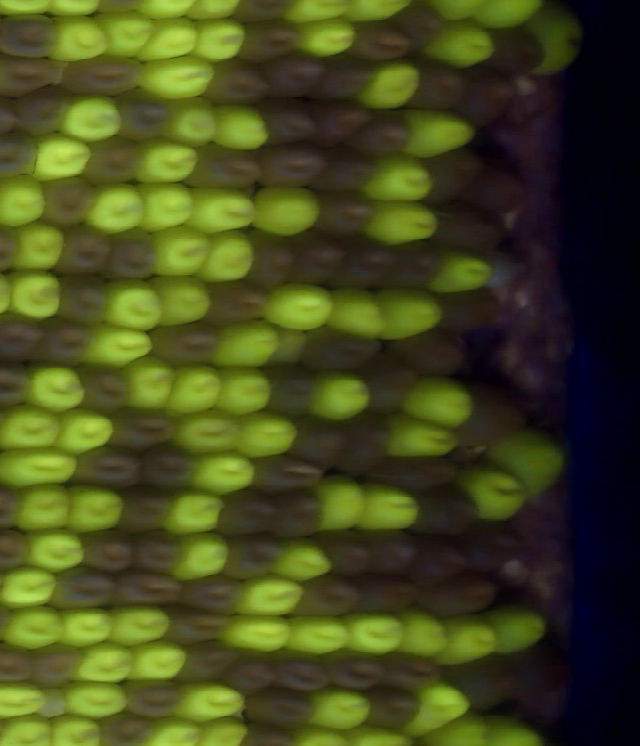fluorescent: (485, 420, 571, 504), (451, 458, 534, 529), (518, 4, 589, 81), (125, 50, 222, 105), (397, 370, 480, 434), (398, 676, 476, 744), (366, 282, 447, 345), (393, 105, 480, 163), (13, 353, 93, 415), (350, 476, 428, 539), (425, 610, 506, 670), (360, 194, 446, 250), (249, 180, 329, 240), (356, 150, 440, 207), (423, 14, 501, 75), (128, 131, 206, 192), (353, 55, 429, 117), (380, 407, 464, 462), (79, 178, 152, 240), (183, 179, 262, 236), (98, 273, 168, 336), (146, 270, 217, 332), (226, 570, 309, 623), (78, 320, 159, 374), (168, 405, 246, 461), (319, 285, 393, 344), (478, 601, 552, 660), (261, 280, 340, 335), (183, 446, 262, 500), (149, 220, 220, 280), (0, 441, 85, 491), (191, 226, 263, 285), (304, 367, 377, 425), (309, 470, 372, 537), (229, 406, 303, 463), (23, 128, 94, 187), (424, 245, 500, 300), (55, 90, 127, 148), (210, 317, 283, 374), (116, 350, 181, 414), (210, 610, 298, 657), (131, 177, 201, 235), (43, 11, 115, 67), (156, 94, 225, 152), (161, 362, 228, 421), (102, 598, 178, 650), (0, 265, 68, 323), (20, 523, 93, 577), (281, 608, 358, 659), (335, 607, 409, 660), (388, 603, 453, 663), (302, 685, 380, 735), (64, 639, 140, 690), (265, 533, 338, 586), (161, 484, 230, 540), (170, 678, 251, 725), (63, 480, 129, 537), (210, 363, 277, 419), (208, 100, 276, 155), (184, 11, 253, 65), (92, 6, 158, 62), (0, 400, 68, 454), (0, 601, 72, 652), (53, 602, 122, 655), (55, 677, 136, 722), (13, 479, 78, 535), (51, 406, 120, 458), (169, 530, 234, 585), (121, 635, 192, 685), (8, 219, 71, 275), (0, 171, 53, 233), (136, 13, 203, 62), (291, 15, 363, 60), (0, 563, 63, 611), (135, 714, 216, 746), (263, 322, 315, 370), (44, 710, 107, 746), (0, 678, 52, 720), (0, 712, 61, 746), (192, 713, 253, 746)
nonfluorescent: (436, 650, 529, 719), (445, 383, 535, 447), (383, 326, 475, 382), (453, 60, 525, 129), (297, 49, 380, 108), (297, 320, 387, 374), (399, 483, 492, 535), (400, 53, 473, 119), (54, 49, 154, 96), (324, 232, 402, 292), (249, 363, 331, 420), (281, 413, 356, 475), (427, 200, 508, 257), (304, 187, 389, 241), (358, 644, 448, 695), (452, 514, 531, 572), (307, 186, 390, 241), (182, 139, 262, 196), (250, 139, 334, 193), (33, 171, 107, 232), (199, 52, 275, 111), (417, 146, 496, 202), (479, 20, 555, 78), (211, 480, 283, 541), (332, 406, 398, 472), (49, 270, 120, 331), (6, 78, 75, 140), (146, 318, 228, 370), (223, 14, 307, 64), (398, 530, 477, 583), (375, 236, 451, 291), (305, 93, 378, 150), (258, 485, 338, 537), (72, 359, 141, 419), (195, 275, 274, 327), (452, 162, 534, 212), (239, 226, 301, 292), (355, 349, 422, 410), (428, 282, 506, 334), (282, 228, 348, 289), (103, 480, 188, 527), (80, 132, 151, 188), (413, 571, 492, 621), (244, 450, 328, 497), (63, 440, 145, 488), (370, 450, 463, 492), (340, 13, 418, 63), (126, 438, 201, 490), (343, 105, 415, 159), (350, 523, 426, 574), (312, 149, 387, 200), (50, 221, 117, 278), (32, 313, 101, 368), (105, 566, 184, 614), (260, 46, 330, 100), (293, 573, 367, 623), (0, 10, 66, 66), (46, 562, 123, 610), (310, 523, 378, 577), (98, 404, 183, 447), (110, 87, 173, 145), (272, 641, 336, 698), (240, 683, 318, 729), (173, 568, 250, 614), (106, 224, 167, 282), (254, 98, 322, 150), (352, 683, 430, 728), (383, 1, 450, 53), (320, 642, 391, 691), (69, 527, 143, 574), (119, 521, 189, 570), (0, 308, 51, 374), (217, 531, 286, 579), (352, 569, 421, 617), (25, 639, 87, 692), (0, 50, 68, 98), (151, 605, 235, 643), (114, 678, 189, 720), (221, 642, 283, 691), (172, 638, 242, 678), (0, 356, 42, 412), (0, 130, 42, 181), (97, 708, 152, 746), (0, 638, 41, 687), (0, 522, 37, 573), (232, 723, 287, 746)
